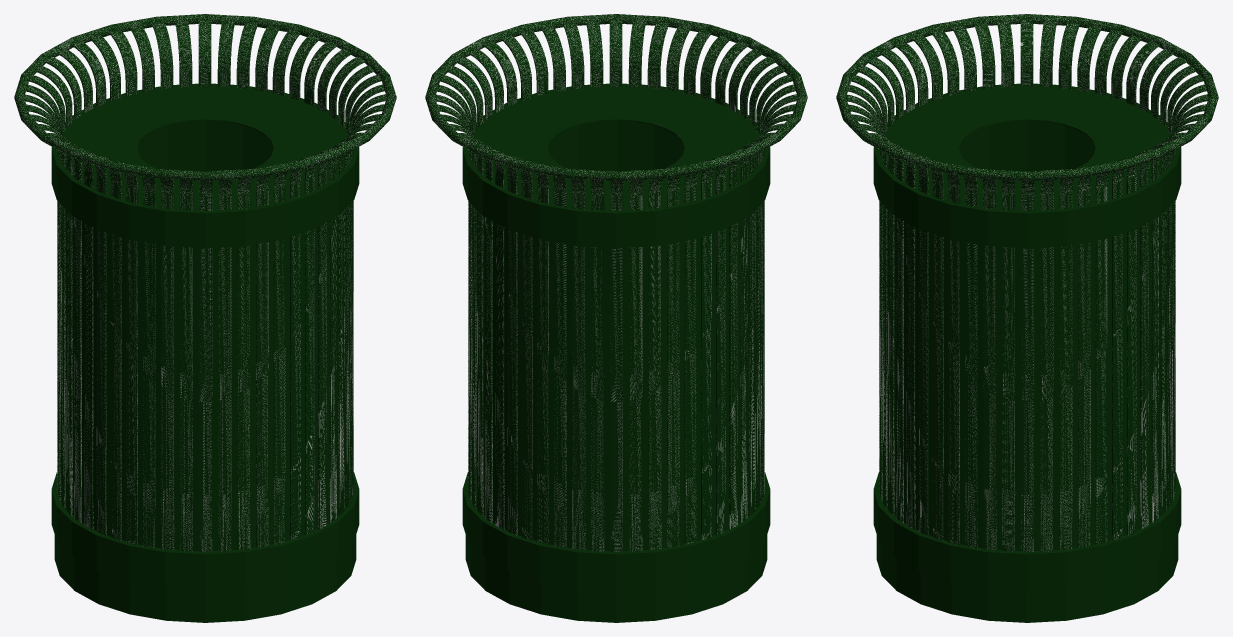
The picture shows the model from 3 angles, left to right: view 1: azimuth 30°, elevation 25°; view 2: azimuth 150°, elevation 25°; view 3: azimuth 270°, elevation 25°; orthographic projection.
Visible parts, largest first — view 1: mesh16.001_mesh16-geometry, mesh21.001_mesh21-geometry, mesh11.001_mesh11-geometry, mesh1.001_mesh1-geometry, mesh6.001_mesh6-geometry, mesh75.001_mesh75-geometry, mesh26.001_mesh26-geometry, mesh36.001_mesh36-geometry, mesh29.001_mesh29-geometry, mesh31.001_mesh31-geometry, mesh28.001_mesh28-geometry, mesh51.001_mesh51-geometry (+38 smaller); view 2: mesh16.001_mesh16-geometry, mesh21.001_mesh21-geometry, mesh11.001_mesh11-geometry, mesh1.001_mesh1-geometry, mesh6.001_mesh6-geometry, mesh75.001_mesh75-geometry, mesh43.001_mesh43-geometry, mesh41.001_mesh41-geometry, mesh40.001_mesh40-geometry, mesh44.001_mesh44-geometry, mesh42.001_mesh42-geometry, mesh45.001_mesh45-geometry (+38 smaller); view 3: mesh16.001_mesh16-geometry, mesh21.001_mesh21-geometry, mesh11.001_mesh11-geometry, mesh1.001_mesh1-geometry, mesh6.001_mesh6-geometry, mesh75.001_mesh75-geometry, mesh53.001_mesh53-geometry, mesh64.001_mesh64-geometry, mesh63.001_mesh63-geometry, mesh66.001_mesh66-geometry, mesh65.001_mesh65-geometry, mesh67.001_mesh67-geometry (+38 smaller).
Part boxes in pixels (left/top/right/bottom): mesh16.001_mesh16-geometry: left=62, top=86, right=348, bottom=551; mesh21.001_mesh21-geometry: left=63, top=86, right=347, bottom=209; mesh11.001_mesh11-geometry: left=51, top=83, right=359, bottom=248; mesh1.001_mesh1-geometry: left=51, top=472, right=359, bottom=589; mesh6.001_mesh6-geometry: left=54, top=535, right=356, bottom=622; mesh75.001_mesh75-geometry: left=14, top=14, right=396, bottom=180; mesh26.001_mesh26-geometry: left=218, top=179, right=232, bottom=551; mesh36.001_mesh36-geometry: left=179, top=179, right=193, bottom=551; mesh29.001_mesh29-geometry: left=160, top=178, right=174, bottom=550; mesh31.001_mesh31-geometry: left=199, top=180, right=212, bottom=551; mesh28.001_mesh28-geometry: left=237, top=178, right=251, bottom=550; mesh51.001_mesh51-geometry: left=256, top=175, right=269, bottom=547; mesh16.001_mesh16-geometry: left=473, top=86, right=759, bottom=551; mesh21.001_mesh21-geometry: left=474, top=86, right=758, bottom=209; mesh11.001_mesh11-geometry: left=462, top=83, right=770, bottom=248; mesh1.001_mesh1-geometry: left=462, top=472, right=770, bottom=589; mesh6.001_mesh6-geometry: left=465, top=535, right=767, bottom=622; mesh75.001_mesh75-geometry: left=425, top=14, right=807, bottom=180; mesh43.001_mesh43-geometry: left=629, top=179, right=643, bottom=551; mesh41.001_mesh41-geometry: left=590, top=179, right=604, bottom=551; mesh40.001_mesh40-geometry: left=571, top=178, right=585, bottom=550; mesh44.001_mesh44-geometry: left=648, top=178, right=662, bottom=550; mesh42.001_mesh42-geometry: left=610, top=180, right=623, bottom=551; mesh45.001_mesh45-geometry: left=667, top=175, right=680, bottom=547; mesh16.001_mesh16-geometry: left=884, top=86, right=1170, bottom=551; mesh21.001_mesh21-geometry: left=885, top=86, right=1169, bottom=209; mesh11.001_mesh11-geometry: left=873, top=83, right=1181, bottom=248; mesh1.001_mesh1-geometry: left=873, top=472, right=1181, bottom=589; mesh6.001_mesh6-geometry: left=876, top=535, right=1178, bottom=622; mesh75.001_mesh75-geometry: left=836, top=14, right=1218, bottom=180; mesh53.001_mesh53-geometry: left=1040, top=179, right=1054, bottom=551; mesh64.001_mesh64-geometry: left=1001, top=179, right=1015, bottom=551; mesh63.001_mesh63-geometry: left=982, top=178, right=996, bottom=550; mesh66.001_mesh66-geometry: left=1059, top=178, right=1073, bottom=550; mesh65.001_mesh65-geometry: left=1021, top=180, right=1034, bottom=551; mesh67.001_mesh67-geometry: left=1078, top=175, right=1091, bottom=547.
Bounding box in the file's own units: 0.5125 × 0.689 × 0.5125.
